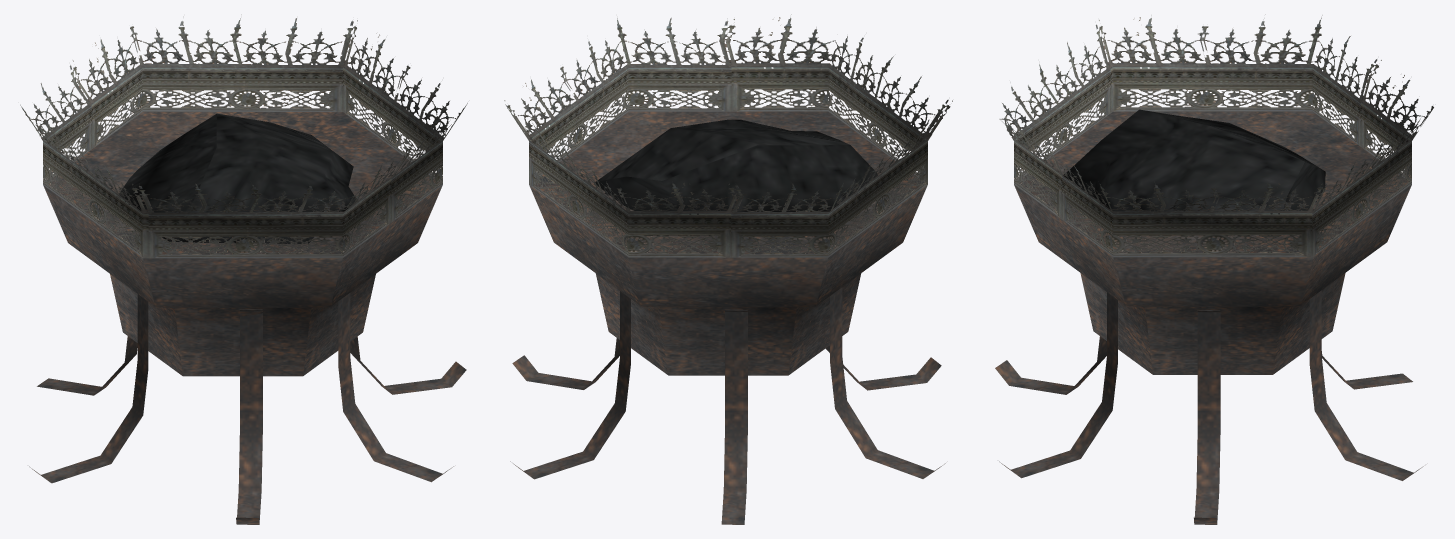
Rendered from brazier.glb.
3 renders of one model, left to right at view 1: azimuth 30°, elevation 25°; view 2: azimuth 150°, elevation 25°; view 3: azimuth 270°, elevation 25°, orthographic.
Visible parts, largest first — view 1: brazier; view 2: brazier; view 3: brazier.
Boxes of the visible parts, <box> form: brazier: <box>20,14,467,524</box>; brazier: <box>504,14,952,524</box>; brazier: <box>995,14,1433,524</box>.
Bounding box in the file's own units: 1.12 × 0.8282 × 1.04.
3 materials, 3 textured.
